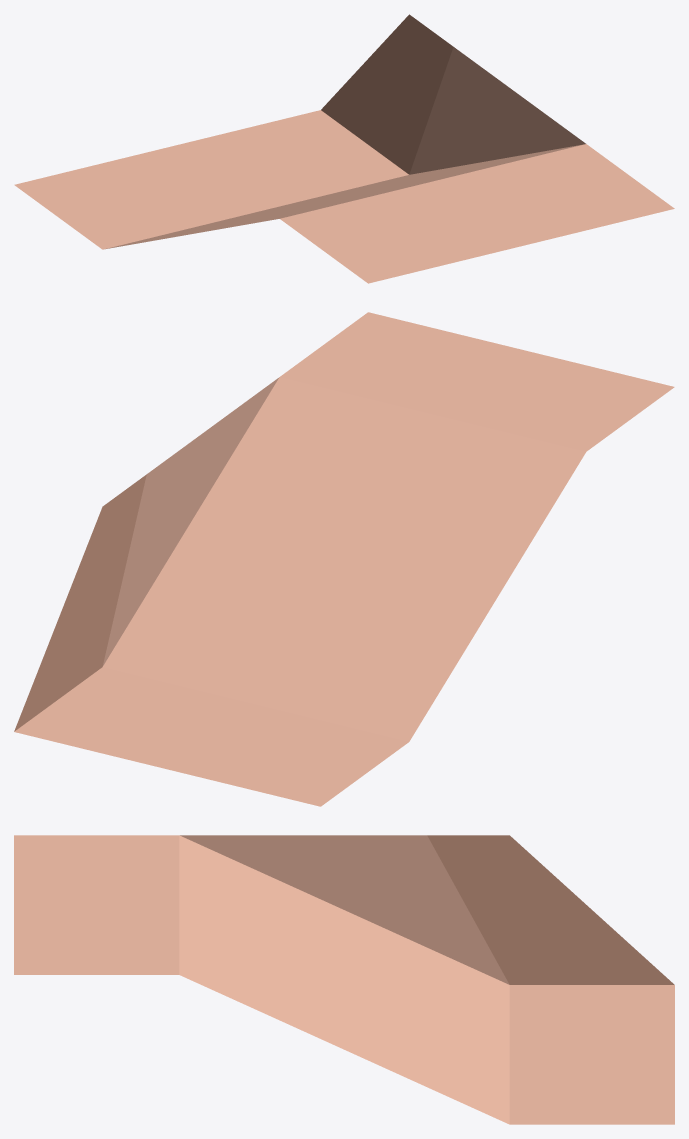
The model's file is terrain-ramplarge-detailed.glb.
3 renders of one model, top to bottom at view 1: azimuth 30°, elevation 25°; view 2: azimuth 150°, elevation 25°; view 3: azimuth 270°, elevation 25°, orthographic. The views are drawn at different scales.
Visible parts, largest first — view 1: terrain_rampLarge_detailed; view 2: terrain_rampLarge_detailed; view 3: terrain_rampLarge_detailed.
Part boxes in pixels (x1=…): terrain_rampLarge_detailed: x1=14, y1=14, x2=674, y2=283; terrain_rampLarge_detailed: x1=14, y1=312, x2=674, y2=806; terrain_rampLarge_detailed: x1=14, y1=835, x2=674, y2=1124.
Bounding box in the file's own units: 1 × 0.5 × 2.
